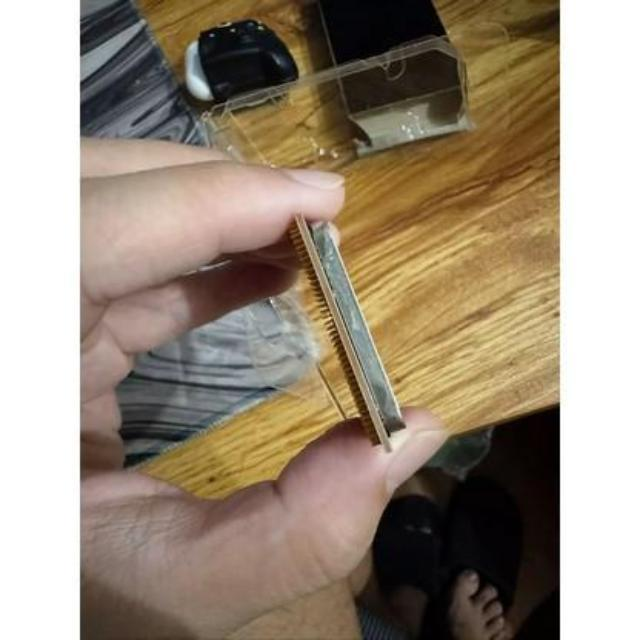CPU: (282, 208, 426, 454)
